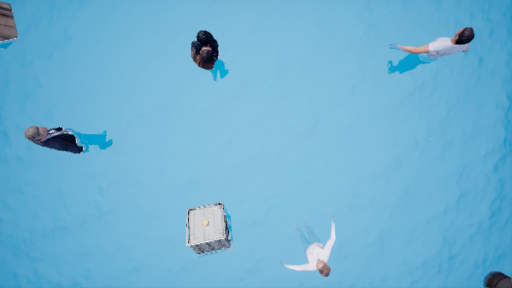person: (383, 23, 474, 88), (21, 119, 119, 161), (288, 217, 339, 276), (178, 24, 225, 84)
